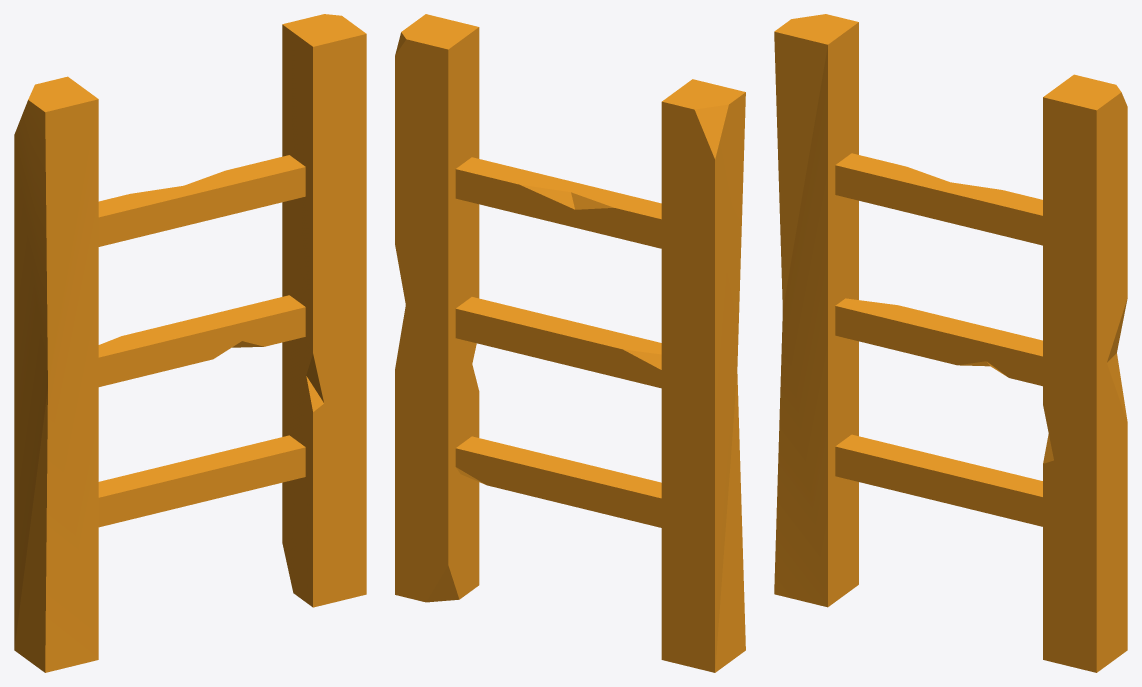
File: SM_Prop_Ladder_1x1_01P.fbx
The picture shows the model from 3 angles, left to right: view 1: azimuth 30°, elevation 25°; view 2: azimuth 150°, elevation 25°; view 3: azimuth 330°, elevation 25°; orthographic projection.
Parts seen in each view (by area): view 1: SM_Prop_Ladder_1x1_01P; view 2: SM_Prop_Ladder_1x1_01P; view 3: SM_Prop_Ladder_1x1_01P.
Part boxes in pixels (box(x1,y1,x2,y2)): SM_Prop_Ladder_1x1_01P: box(14, 14, 366, 672); SM_Prop_Ladder_1x1_01P: box(395, 14, 745, 672); SM_Prop_Ladder_1x1_01P: box(774, 14, 1127, 672).
Bounding box in the file's own units: 60 × 100 × 10.
